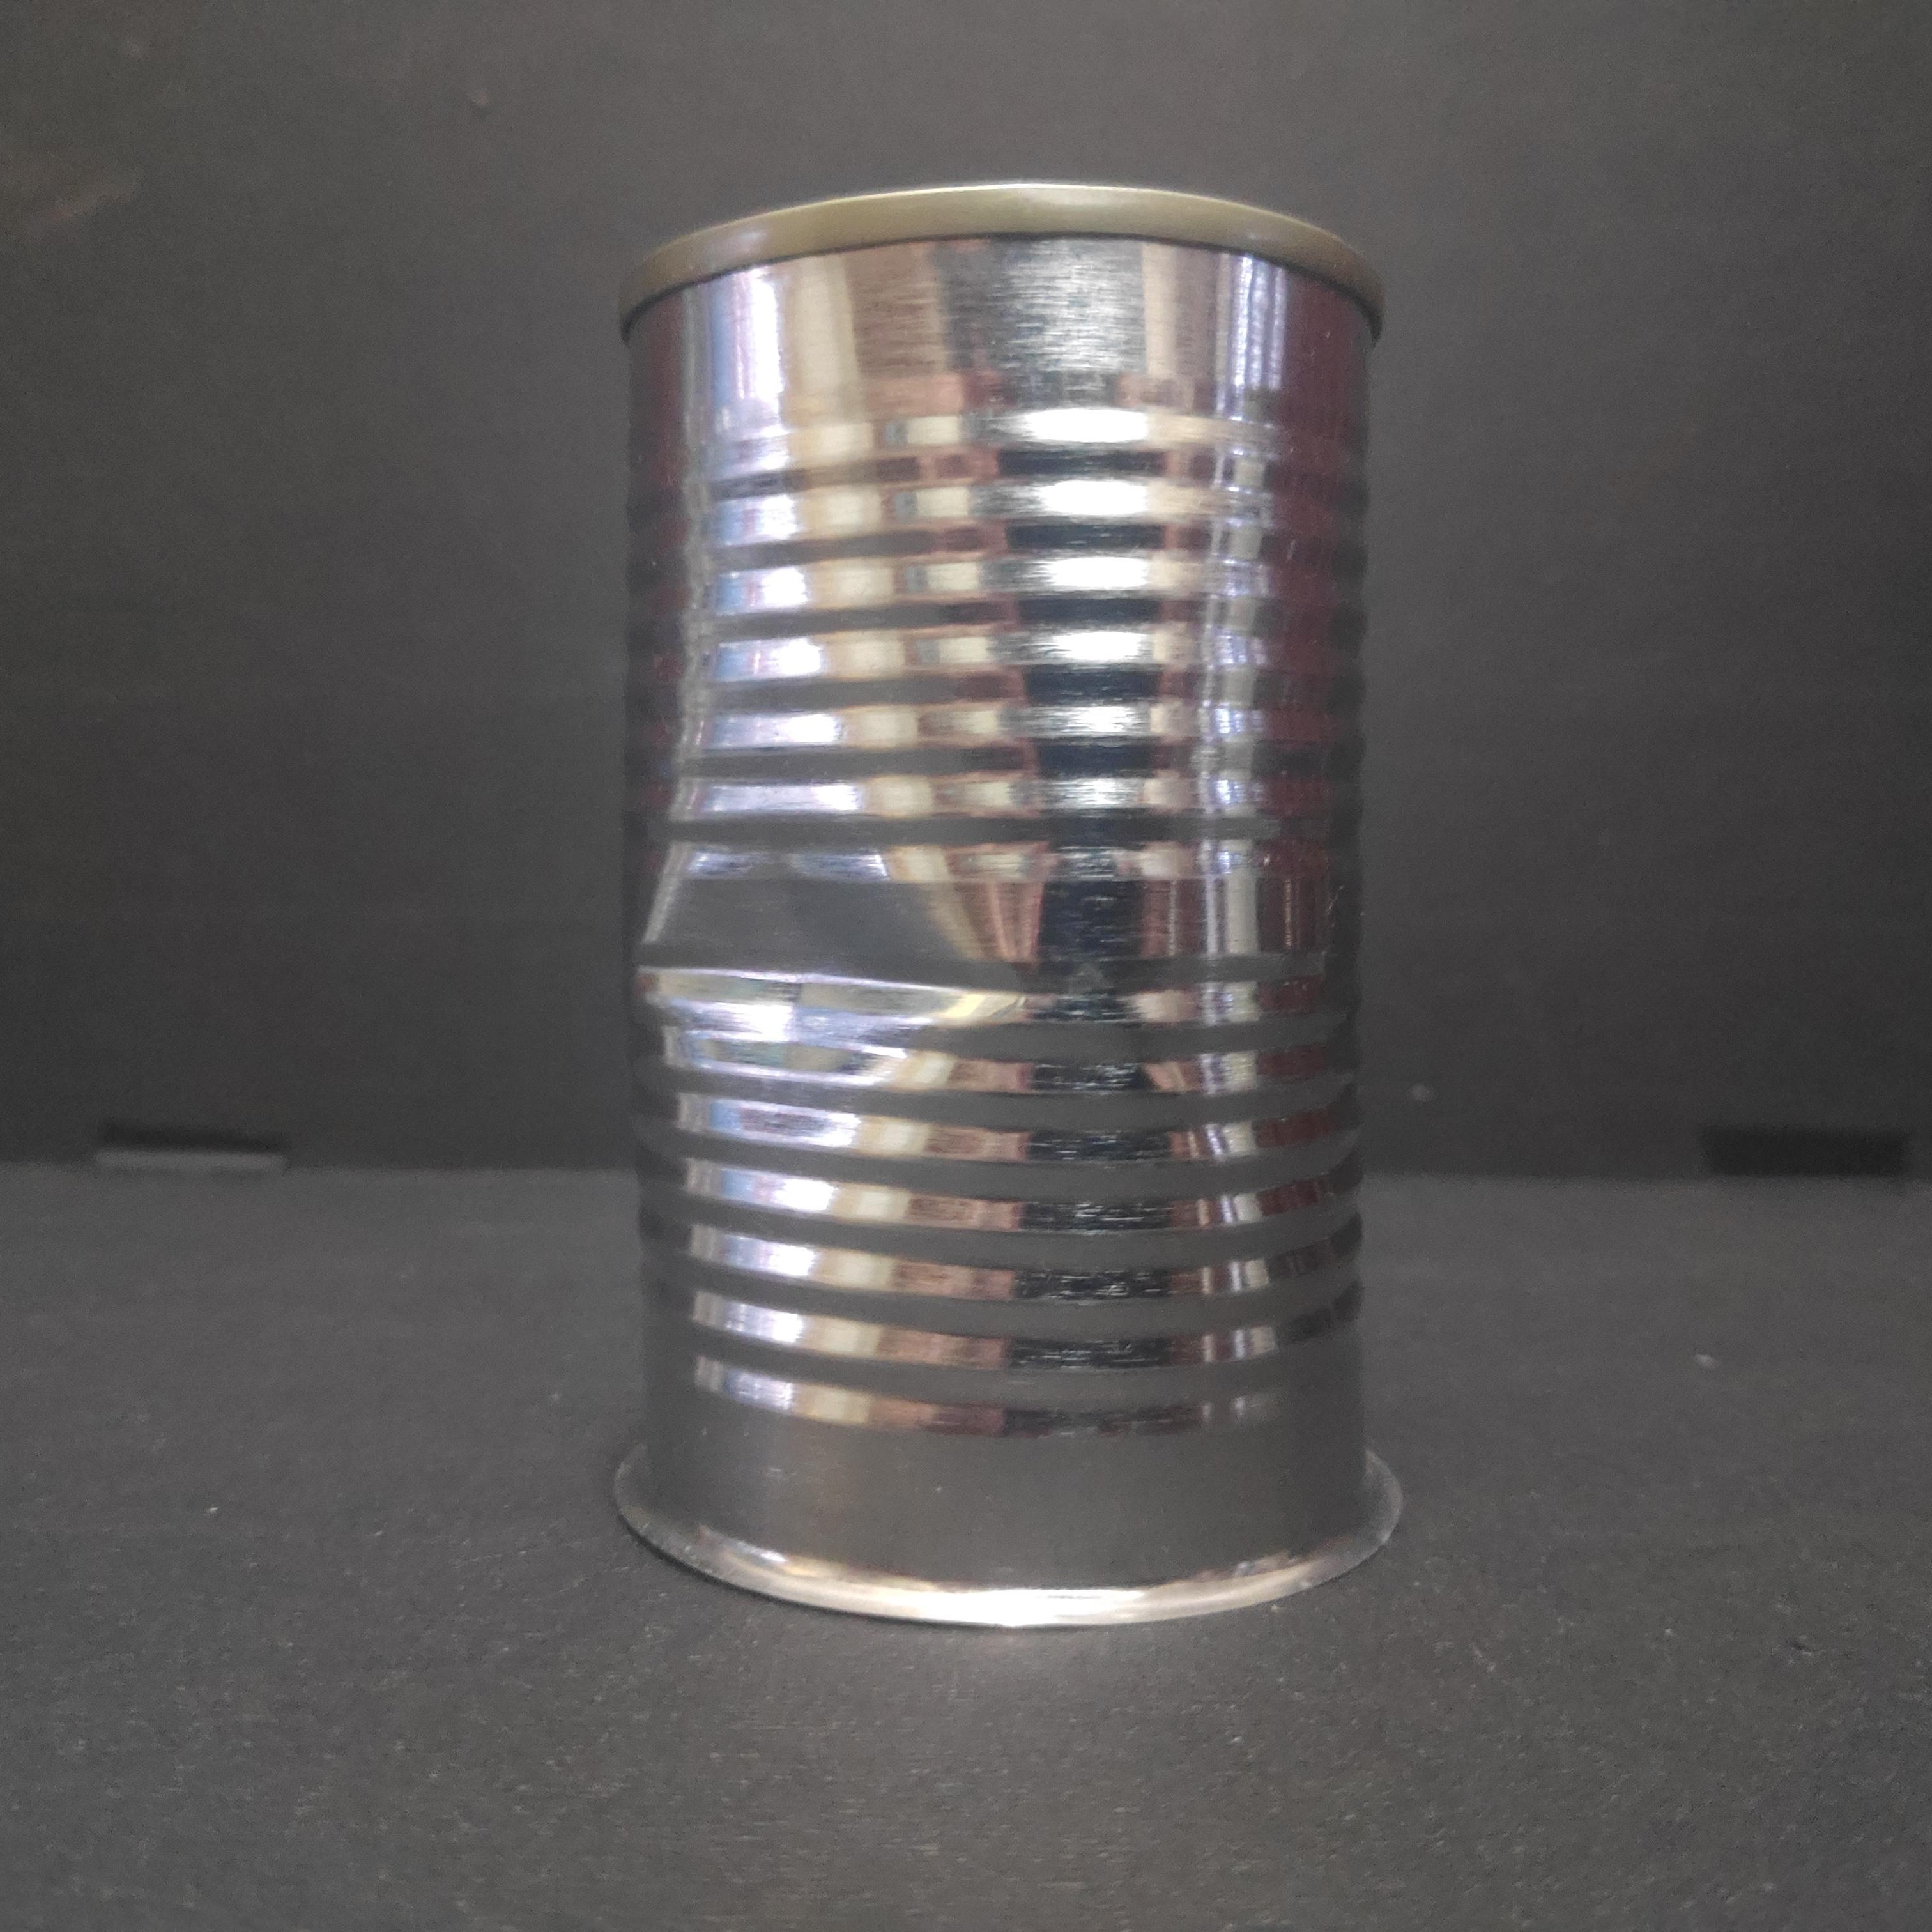Dented: (598, 147, 1408, 1645)
